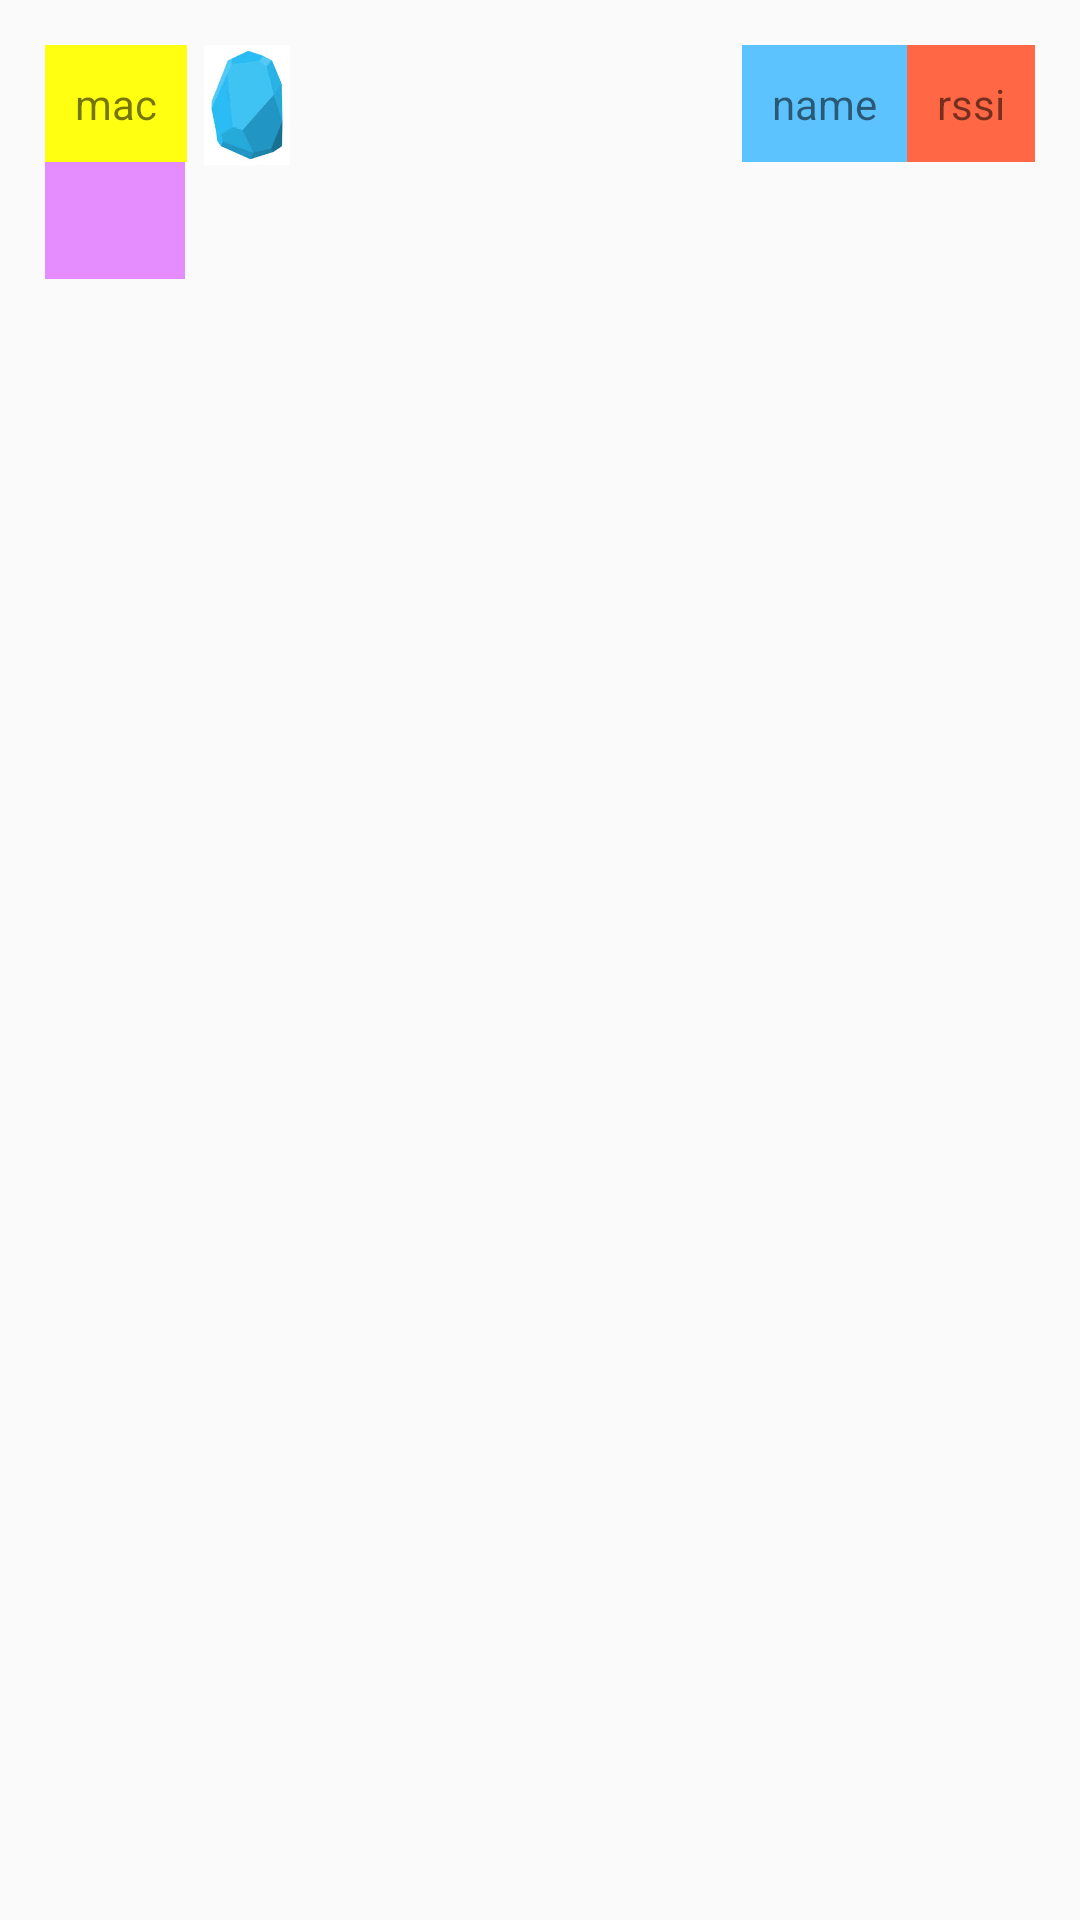

Where icons sit on this 1080w x 1920h app screen, as (x1, y1, x2, y2):
cyan: (211, 51, 283, 159)
